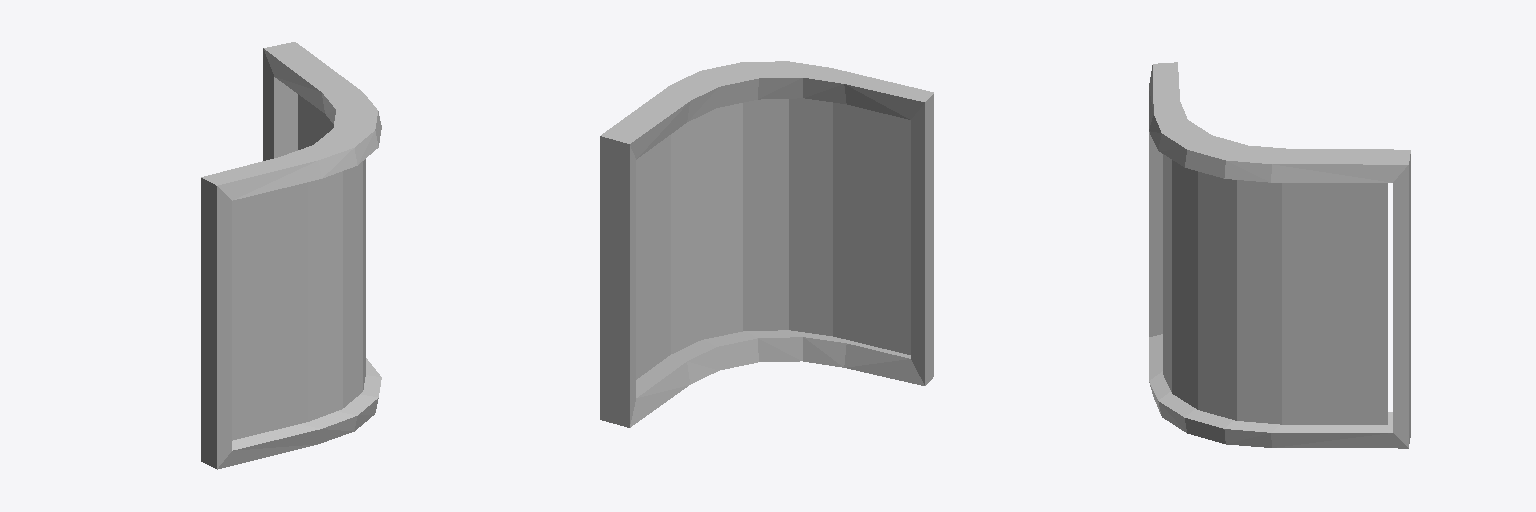
The model's file is Sign_Corner_Small1_Plane.obj.
3 renders of one model, left to right at view 1: azimuth 30°, elevation 25°; view 2: azimuth 150°, elevation 25°; view 3: azimuth 270°, elevation 25°, orthographic.
Parts seen in each view (by area): view 1: Sign_Corner_Small1_Plane.001_Sign_Corner_Small1_Plane.002; view 2: Sign_Corner_Small1_Plane.001_Sign_Corner_Small1_Plane.002; view 3: Sign_Corner_Small1_Plane.001_Sign_Corner_Small1_Plane.002.
Part boxes in pixels (x1,y1,x2,y2): Sign_Corner_Small1_Plane.001_Sign_Corner_Small1_Plane.002: (201,42,381,469); Sign_Corner_Small1_Plane.001_Sign_Corner_Small1_Plane.002: (600,61,933,427); Sign_Corner_Small1_Plane.001_Sign_Corner_Small1_Plane.002: (1149,62,1410,448).
Bounding box in the file's own units: 0.5691 × 0.7269 × 0.6085.